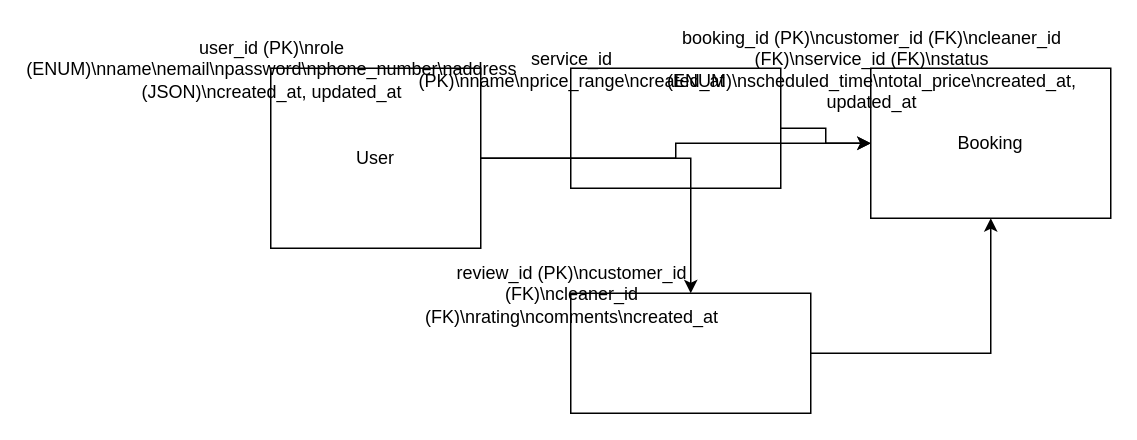
This 1137x440 diagram has some shape labels left out. Each missing label, with the centre of its shape:
Review: point 690,352
Service: point 675,127
